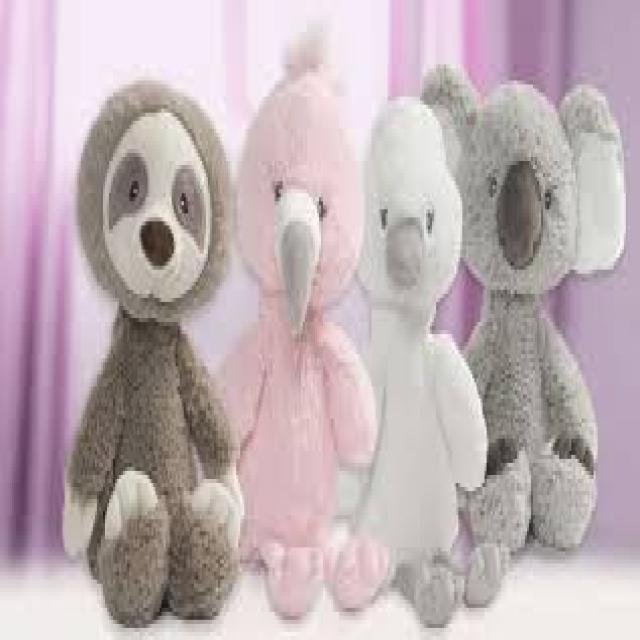soft-toy: (422, 65, 622, 549), (226, 30, 390, 618), (65, 81, 241, 626), (362, 98, 488, 555)
